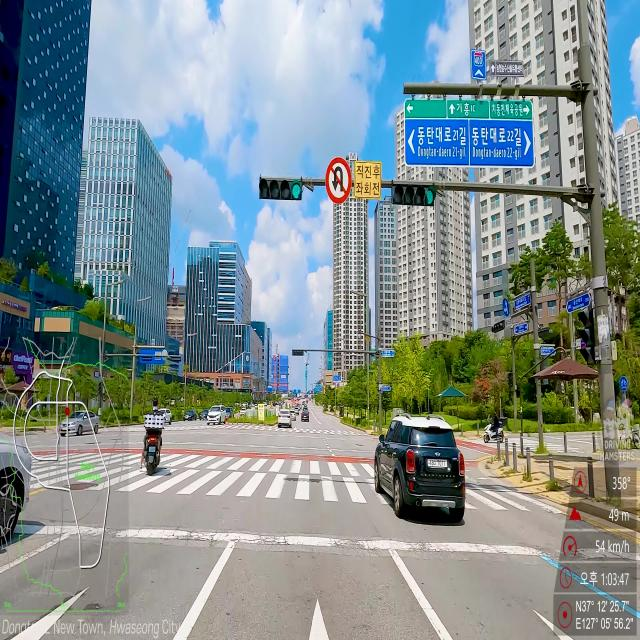Green Light: (291, 179, 301, 201), (426, 188, 434, 206)
